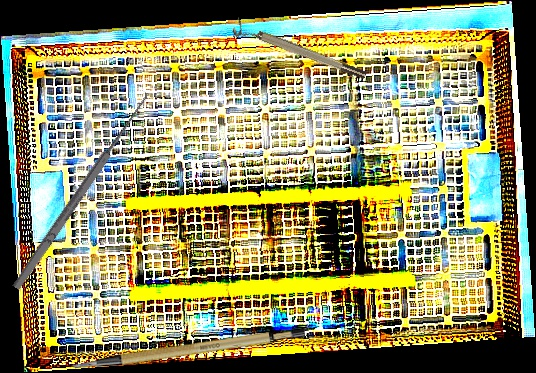Fixation Ring: (231, 16, 368, 88)
Hook Surgical: (3, 84, 154, 293)
Scalpel Handle: (71, 325, 305, 370)
